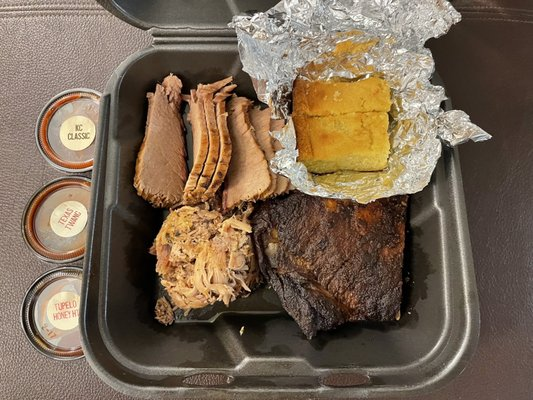soup: (251, 191, 411, 342)
